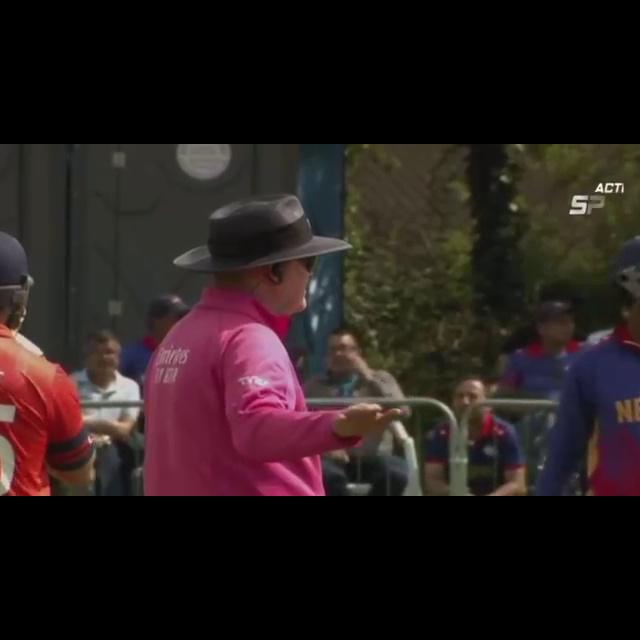umpire: (155, 194, 441, 493)
